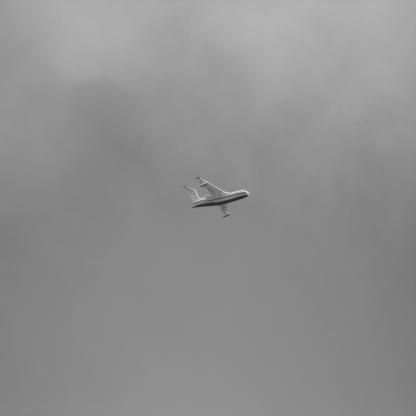Be200: (184, 178, 251, 219)
